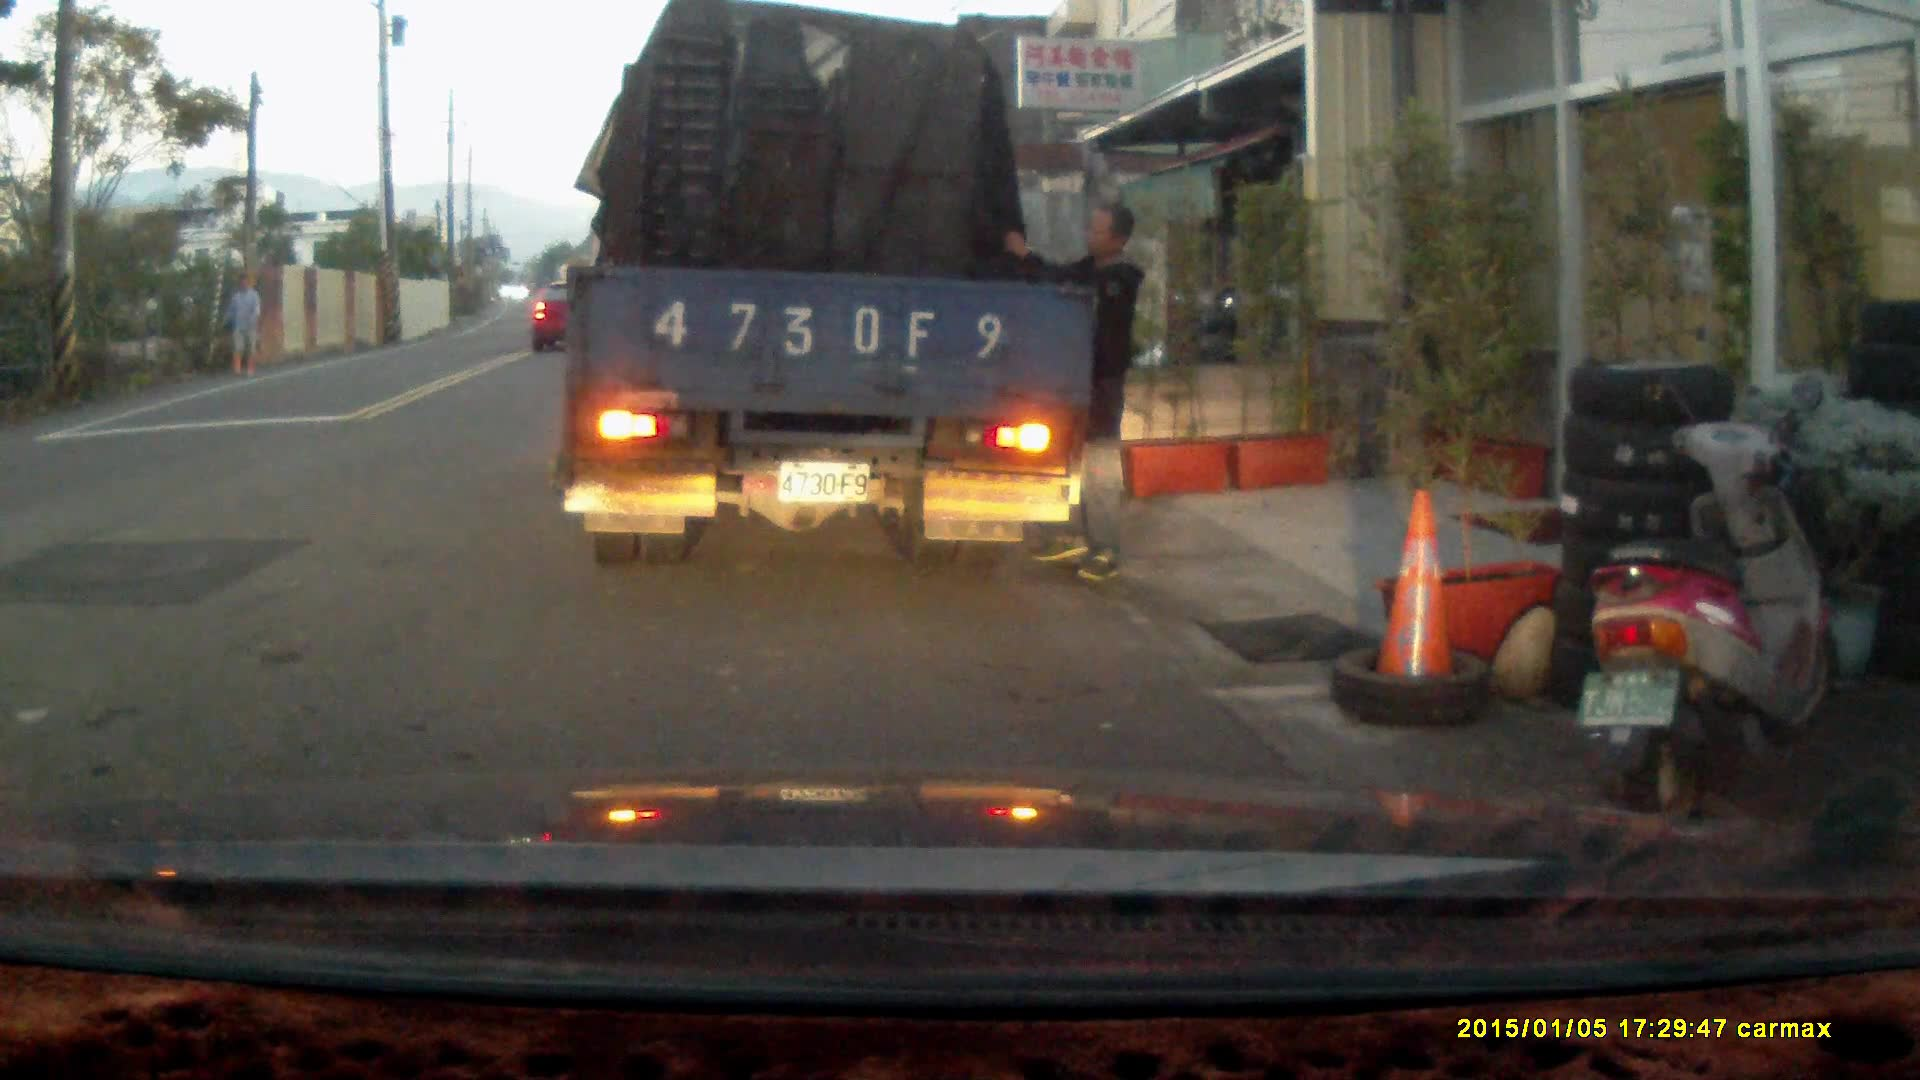pedestrian: (1002, 200, 1144, 582), (223, 271, 263, 379)
vehicle: (565, 23, 1097, 572), (534, 283, 600, 356)
